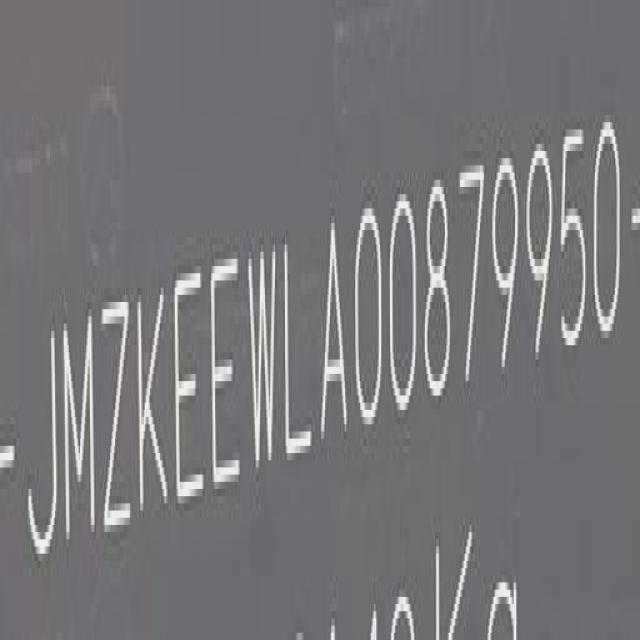0: (354, 197, 385, 435), (390, 187, 420, 420), (594, 114, 622, 349)
5: (556, 122, 586, 364)
7: (460, 156, 486, 400)
8: (425, 170, 453, 408)
9: (492, 149, 522, 387), (526, 138, 554, 378)
A: (320, 222, 350, 450)
E: (209, 250, 241, 501), (176, 263, 207, 512)
J: (28, 322, 59, 560)
K: (136, 281, 169, 534)
L: (285, 234, 316, 470)
M: (60, 306, 94, 554)
W: (243, 236, 285, 483)
Z: (101, 290, 133, 546)
